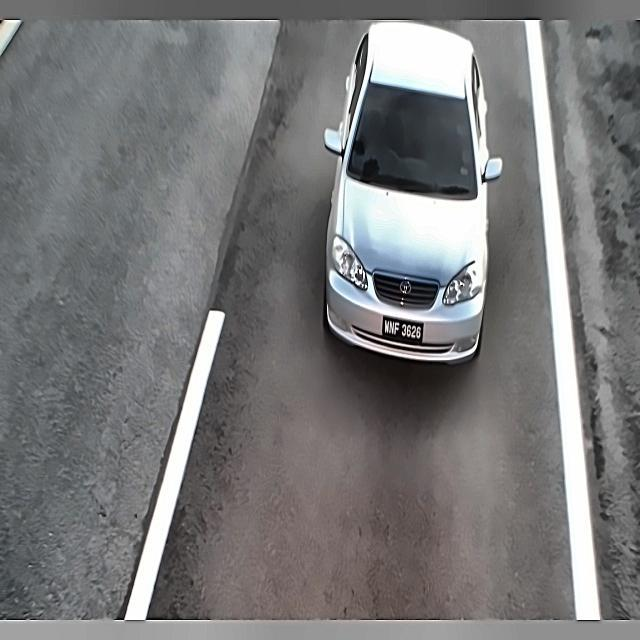car: (382, 314, 424, 352)
